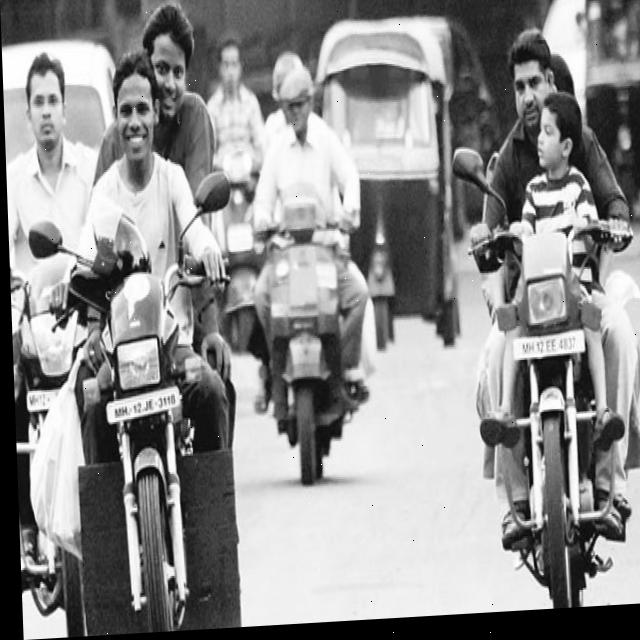without helmet: (106, 8, 198, 165), (501, 31, 591, 188), (264, 42, 327, 153)
